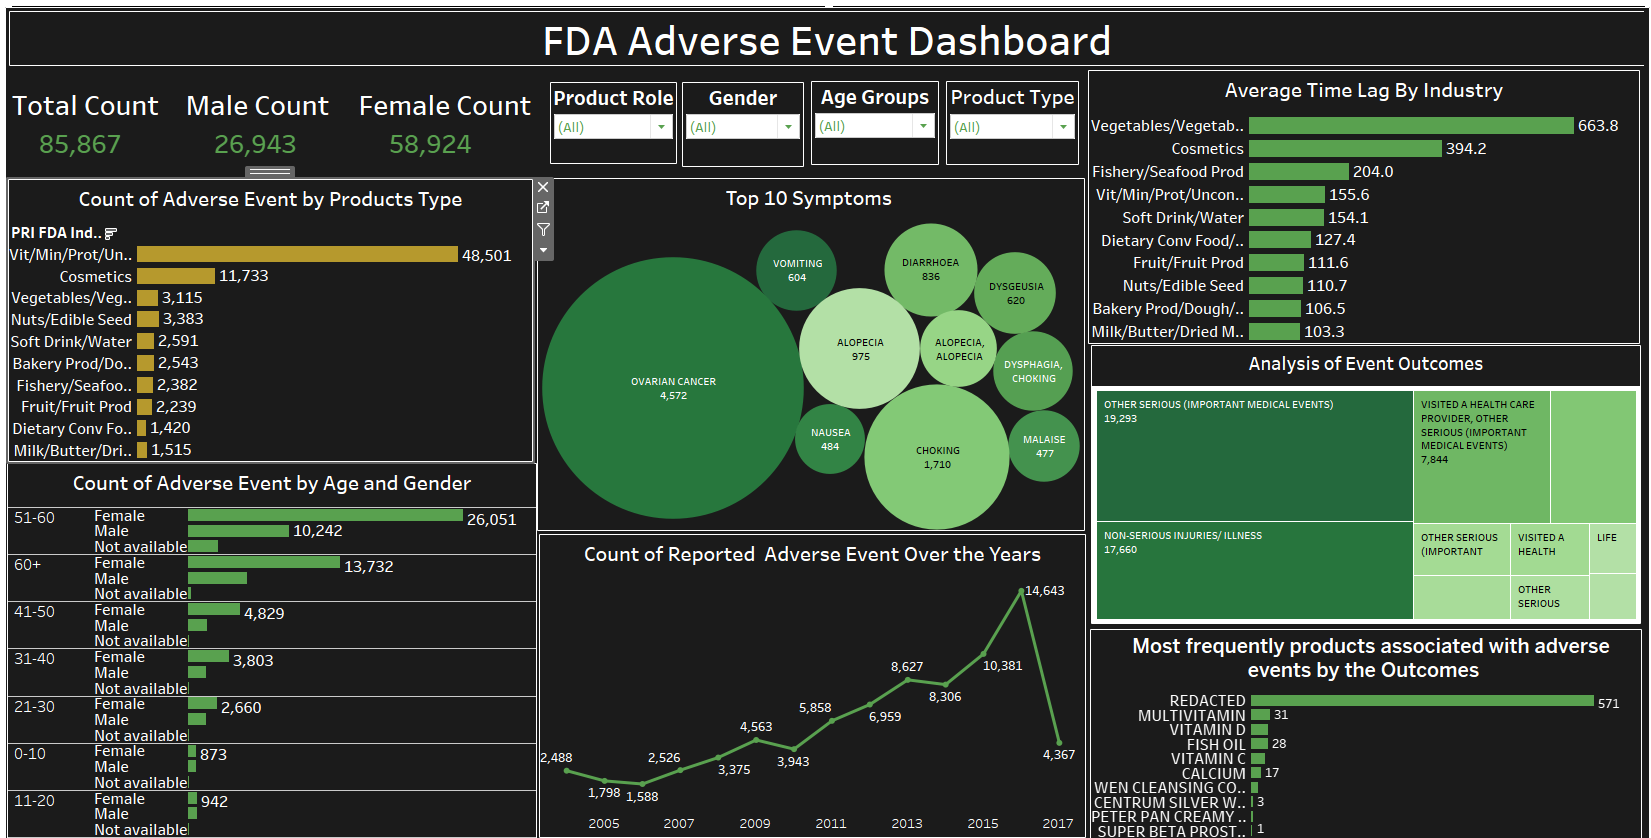

This screenshot's page, from the dashboard's own definition file:
{"tool":"tableau","page":{"name":"Dashboard 1","canvas":[1000,1000],"units":"permille","ordinal":0},"visuals":[{"type":"dashboard-object","param":"[com.tableau.addfilters].[0.0.0].[https://extensions.tableauusercontent.com/sand","box":[4.8,9.4,495.2,490.6]},{"type":"dashboard-object","param":"[com.tableau.addfilters].[0.0.0].[https://extensions.tableauusercontent.com/sand","box":[500,9.4,495.2,981.2]},{"type":"blank","box":[3,15.3,992.8,980]},{"type":"text","box":[5.3,20,987.1,64.6]},{"type":"dashboard-object","param":"[com.tableau.addfilters].[0.0.0].[https://extensions.tableauusercontent.com/sand","box":[6.5,89.3,332.1,124.5]},{"type":"worksheet","title":"Q8","mark":"Automatic","rows":["PRI_FDA Industry Name"],"cols":["Calculation_647392454970118147"],"box":[656.6,89.3,333.1,322]},{"type":"filter","title":"Q4","param":"[federated.0c24jpq0hxkivb1eiyyah1r1jg30].[none:Calculation_647392454965596161:nk","box":[489.4,102.2,77.2,98.7]},{"type":"filter","title":"Q2","param":"[federated.0c24jpq0hxkivb1eiyyah1r1jg30].[none:PRI_FDA Industry Name:nk]","box":[570.9,102.2,80.3,98.7]},{"type":"filter","title":"Q2","param":"[federated.0c24jpq0hxkivb1eiyyah1r1jg30].[none:PRI_Product Role:nk]","box":[331.9,103.4,76.6,96.4]},{"type":"filter","title":"Q4","param":"[federated.0c24jpq0hxkivb1eiyyah1r1jg30].[none:Calculation_647392454966214658:nk","box":[411.6,103.4,73.6,99.9]},{"type":"text","box":[4.8,106.9,93.5,44.6]},{"type":"text","box":[108.6,106.9,93.5,44.6]},{"type":"text","box":[210,106.9,117.1,44.6]},{"type":"worksheet","title":"Total Count","mark":"Automatic","box":[18.7,137.5,75.4,78.7]},{"type":"worksheet","title":"Male Count","mark":"Automatic","box":[124.3,155.1,75.4,48.2]},{"type":"worksheet","title":"Female Count","mark":"Automatic","box":[229.9,155.1,75.4,57.6]},{"type":"worksheet","title":"Q5","mark":"Circle","box":[324.1,216.2,330.7,414.8]},{"type":"worksheet","title":"Q2","mark":"Automatic","rows":["PRI_FDA Industry Name"],"cols":["RA_Report #"],"box":[4.8,217.4,316.8,332.6]},{"type":"worksheet","title":"Q17","mark":"Automatic","box":[658.4,412.5,331.9,327.9]},{"type":"dashboard-object","param":"[com.tableau.addfilters].[0.0.0].[https://extensions.tableauusercontent.com/sand","box":[4.8,500,495.2,490.6]},{"type":"worksheet","title":"Q4","mark":"Automatic","rows":["Calculation_647392454965596161","Calculation_647392454966214658"],"cols":["RA_Report #"],"box":[4.2,551.1,319.9,441.8]},{"type":"worksheet","title":"Q7","mark":"Automatic","rows":["RA_Report #"],"cols":["RA_CAERS Created Date"],"box":[325.3,634.6,330.1,357.2]},{"type":"worksheet","title":"Q24","mark":"Automatic","rows":["PRI_Reported Brand/Product Name"],"cols":["AEC_One Row Outcomes"],"box":[657.8,746.2,333.1,246.8]}]}

Visuals, with their boxes on the dashboard's canvas, which has no fixed pixel size, in thousandths of its width and height (x1, y1, x2, y2). These are canvas units, not pixel positions in the 1651x838 screenshot, which may show the page scaled, cropped or inside an application window:
dashboard-object: 5, 9, 500, 500
dashboard-object: 500, 9, 995, 991
blank: 3, 15, 996, 995
text: 5, 20, 992, 85
dashboard-object: 6, 89, 339, 214
"Q8" worksheet: 657, 89, 990, 411
"Q4" filter: 489, 102, 567, 201
"Q2" filter: 571, 102, 651, 201
"Q2" filter: 332, 103, 408, 200
"Q4" filter: 412, 103, 485, 203
text: 5, 107, 98, 152
text: 109, 107, 202, 152
text: 210, 107, 327, 152
"Total Count" worksheet: 19, 138, 94, 216
"Male Count" worksheet: 124, 155, 200, 203
"Female Count" worksheet: 230, 155, 305, 213
"Q5" worksheet (Circle marks): 324, 216, 655, 631
"Q2" worksheet: 5, 217, 322, 550
"Q17" worksheet: 658, 412, 990, 740
dashboard-object: 5, 500, 500, 991
"Q4" worksheet: 4, 551, 324, 993
"Q7" worksheet: 325, 635, 655, 992
"Q24" worksheet: 658, 746, 991, 993
